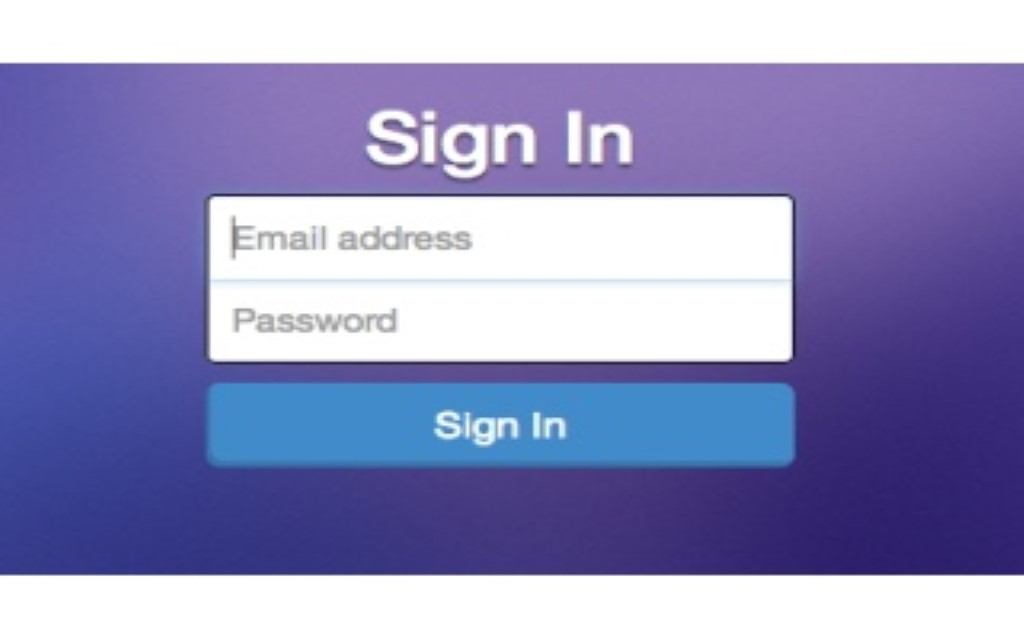button: (205, 381, 797, 464)
label_email: (229, 215, 331, 262)
label_password: (226, 302, 401, 339)
textbox: (209, 192, 793, 281), (209, 281, 790, 360)
